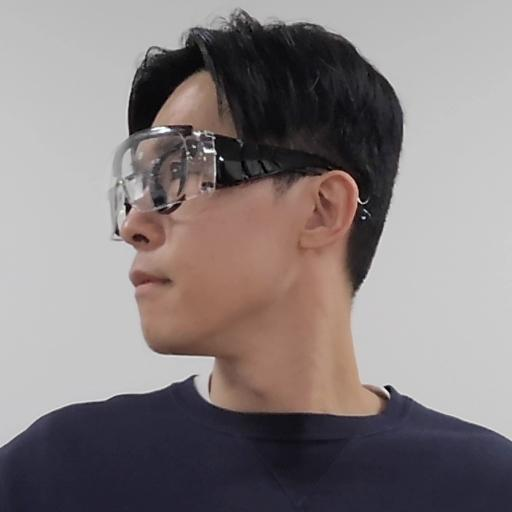glasses: (102, 28, 403, 367)
